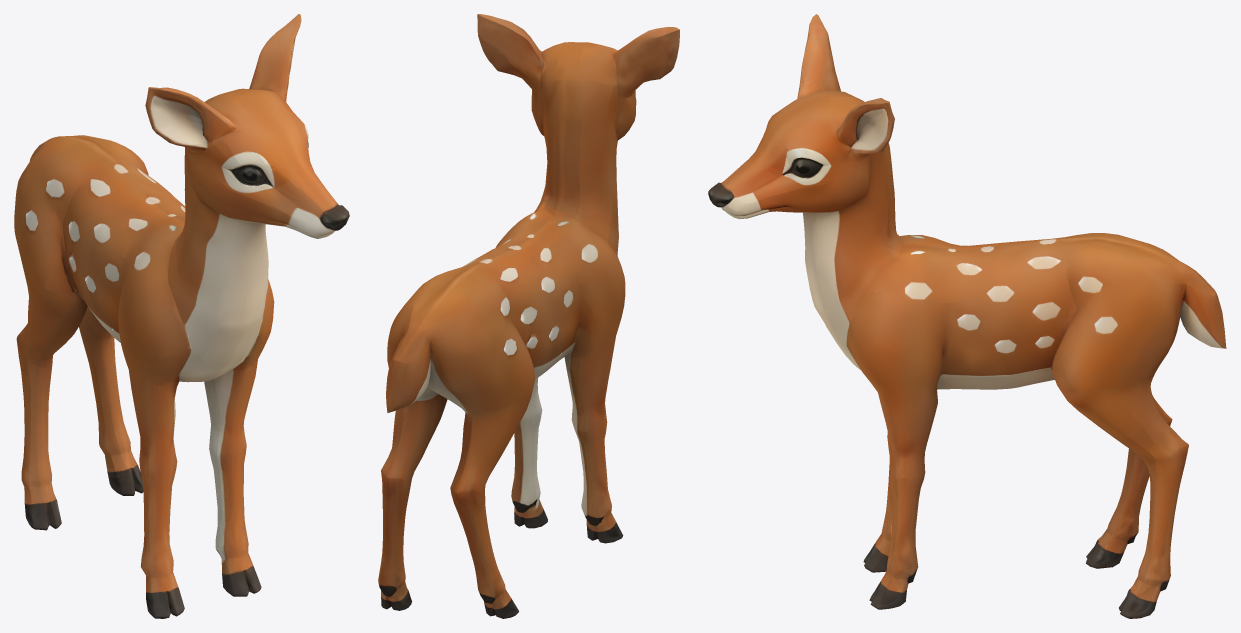
File: deer.glb
3 views of the same model, side by side, from view 1: azimuth 30°, elevation 25°; view 2: azimuth 150°, elevation 25°; view 3: azimuth 270°, elevation 25° (orthographic). The views are drawn at different scales.
Parts seen in each view (by area): view 1: model; view 2: model; view 3: model.
Boxes of the visible parts, x1=… form: model: x1=14, y1=14, x2=349, y2=618; model: x1=378, y1=14, x2=679, y2=618; model: x1=708, y1=14, x2=1226, y2=618.
Size of the model in its own units: 0.6733 by 1.89 by 1.68.
1 material, 1 textured.
